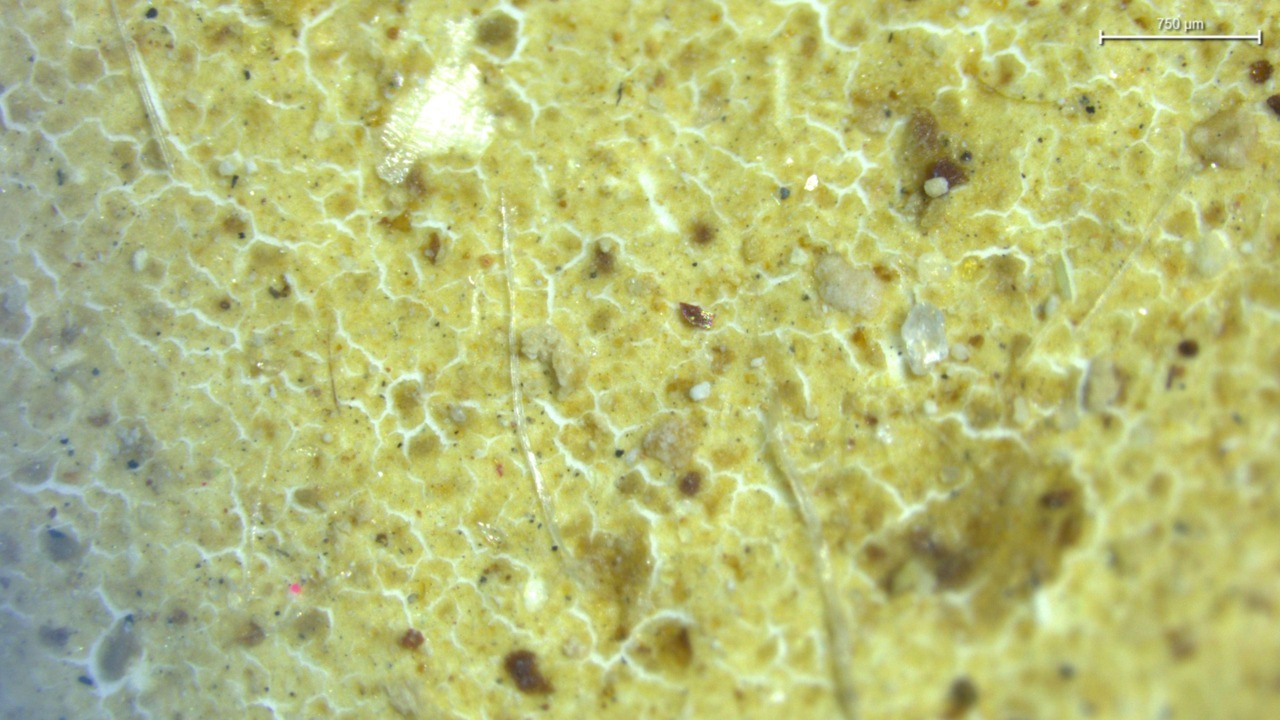microplastic_fragment: (520, 324, 584, 399), (901, 303, 948, 373)
